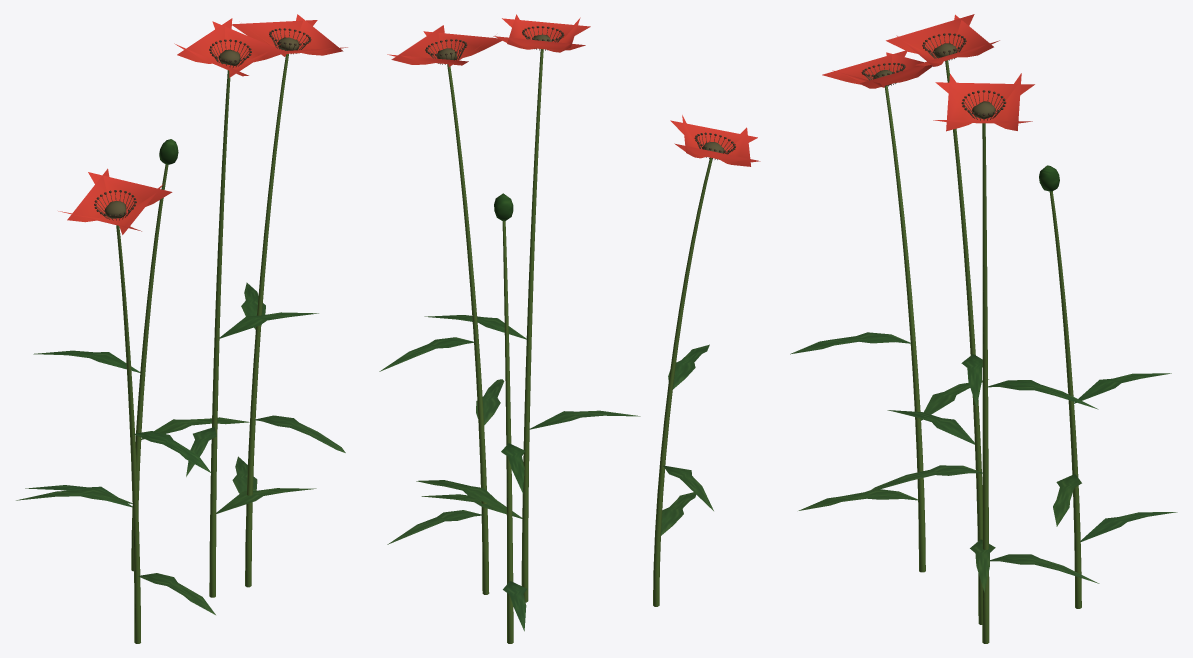
Rendered from b-poppy.glb.
3 views of the same model, side by side, from view 1: azimuth 30°, elevation 25°; view 2: azimuth 150°, elevation 25°; view 3: azimuth 270°, elevation 25° (orthographic). The views are drawn at different scales.
Visible parts, largest first — view 1: Stems, Flowers, Foliage; view 2: Stems, Foliage, Flowers; view 3: Stems, Foliage, Flowers.
Part boxes in pixels (bbox=[...]): Stems: bbox=[116, 54, 288, 643]; Flowers: bbox=[58, 14, 347, 234]; Foliage: bbox=[16, 139, 345, 614]; Stems: bbox=[447, 49, 712, 643]; Foliage: bbox=[379, 193, 713, 631]; Flowers: bbox=[387, 14, 760, 166]; Stems: bbox=[884, 60, 1081, 643]; Foliage: bbox=[790, 165, 1177, 592]; Flowers: bbox=[822, 14, 1034, 131].
Size of the model in its own units: 0.3615 by 0.6184 by 0.3702.
3 materials, 1 textured.
